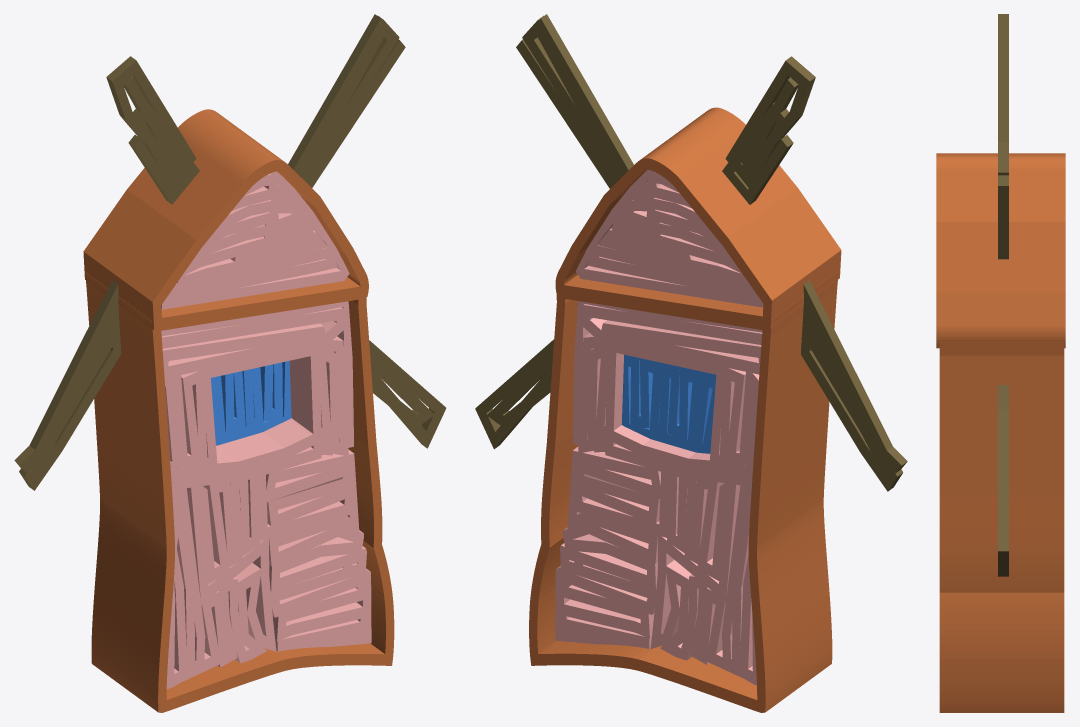
3 renders of one model, left to right at view 1: azimuth 30°, elevation 25°; view 2: azimuth 150°, elevation 25°; view 3: azimuth 270°, elevation 25°, orthographic. The views are drawn at different scales.
Visible parts, largest first — view 1: 20; view 2: 20; view 3: 20.
Part boxes in pixels (x1,y1,x2,y2): 20: (14,14,446,712); 20: (475,14,907,712); 20: (936,14,1065,712).
Bounding box in the file's own units: 1.01 × 1.45 × 0.2856.
